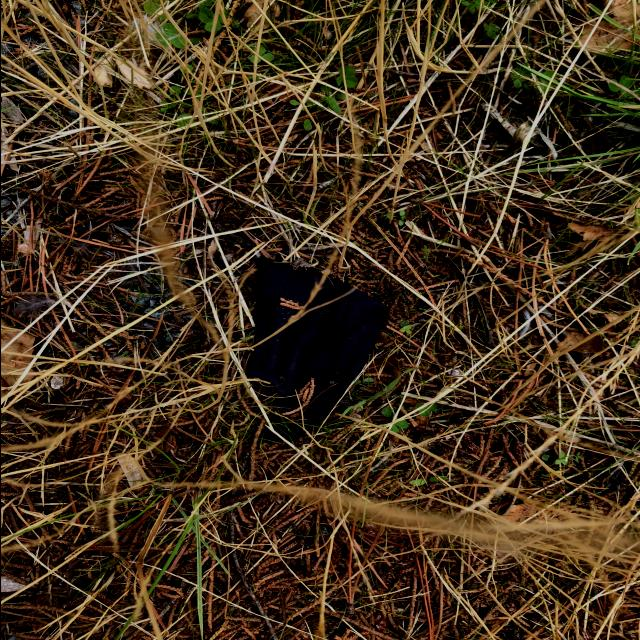Unlabeled litter: (246, 256, 390, 443)
